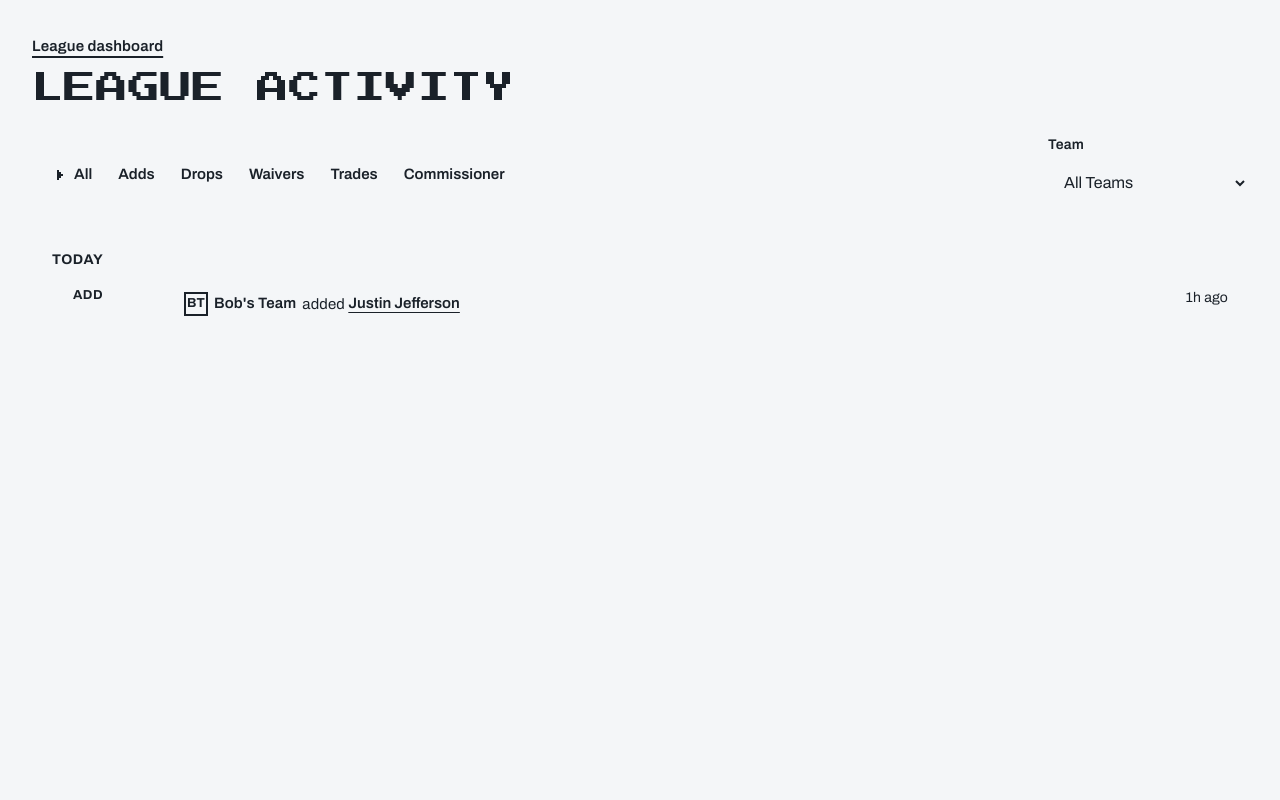
the Decision card derives its context from the /card payload once it answers
Expected: the list item with test id "txn-1" is shown, [52, 274, 1228, 334]
Step 1. Click the button "Justin Jefferson" → x=404, y=304, box [348, 282, 460, 326]
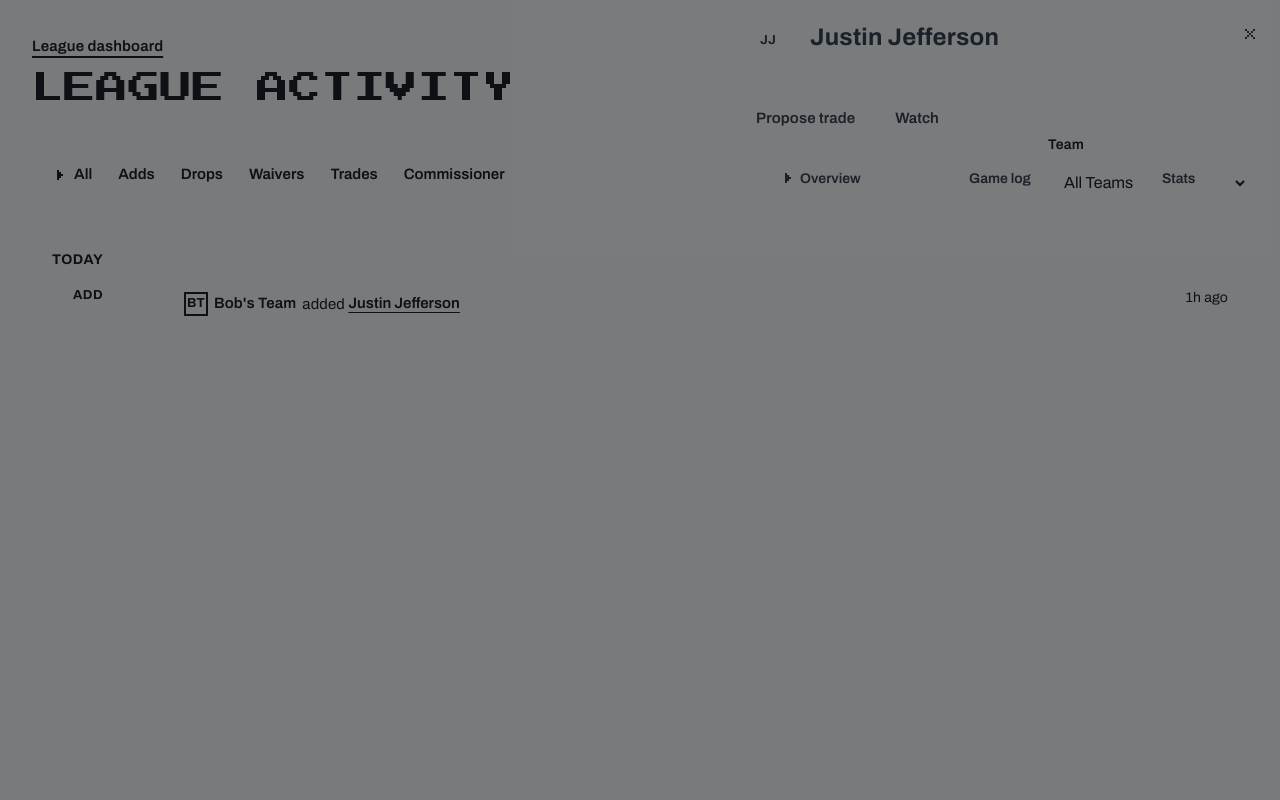
Expected: the link with test id "decision-card-propose-trade" is shown, [756, 110, 855, 126]
